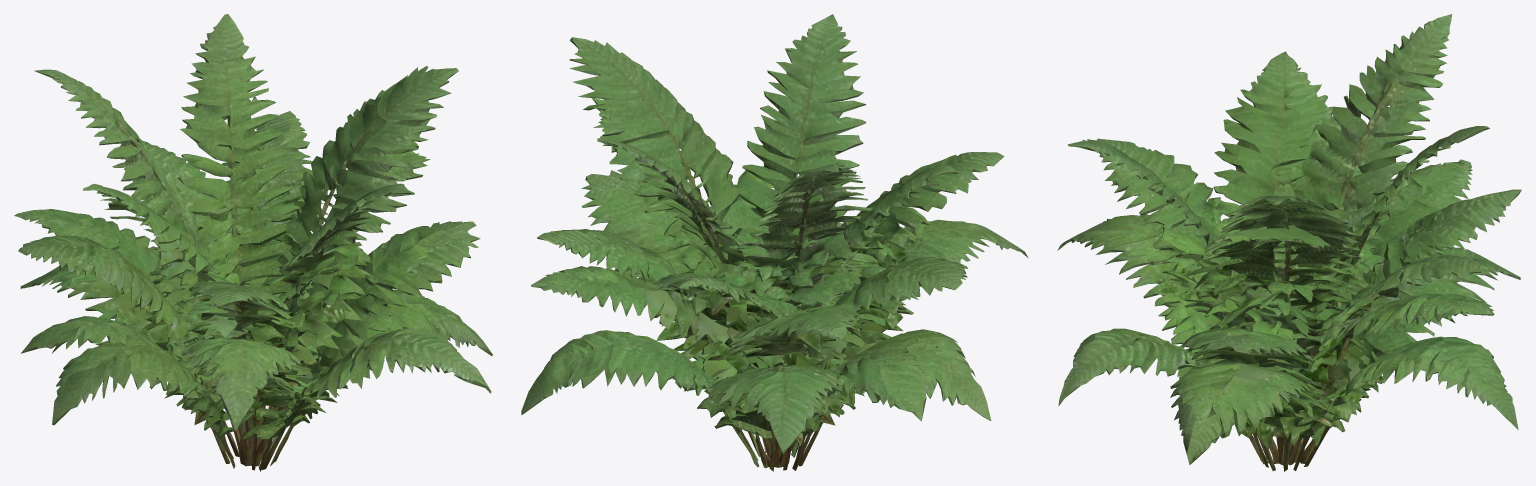
Rendered from creek-fern-lod.glb.
3 renders of one model, left to right at view 1: azimuth 30°, elevation 25°; view 2: azimuth 150°, elevation 25°; view 3: azimuth 270°, elevation 25°, orthographic. The views are drawn at different scales.
Parts seen in each view (by area): view 1: geometry_0; view 2: geometry_0; view 3: geometry_0.
Part boxes in pixels (<box>): geometry_0: <box>14,14,492,471</box>; geometry_0: <box>521,14,1028,471</box>; geometry_0: <box>1057,14,1521,471</box>.
Bounding box in the file's own units: 1.14 × 0.9969 × 1.11.
1 material, 1 textured.
